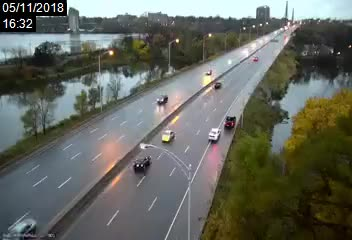personal_car: (2, 218, 37, 240), (132, 155, 152, 172), (207, 127, 222, 143), (224, 115, 237, 130), (162, 130, 175, 144), (156, 95, 168, 106), (204, 69, 213, 77), (214, 82, 222, 89), (252, 56, 259, 61)
